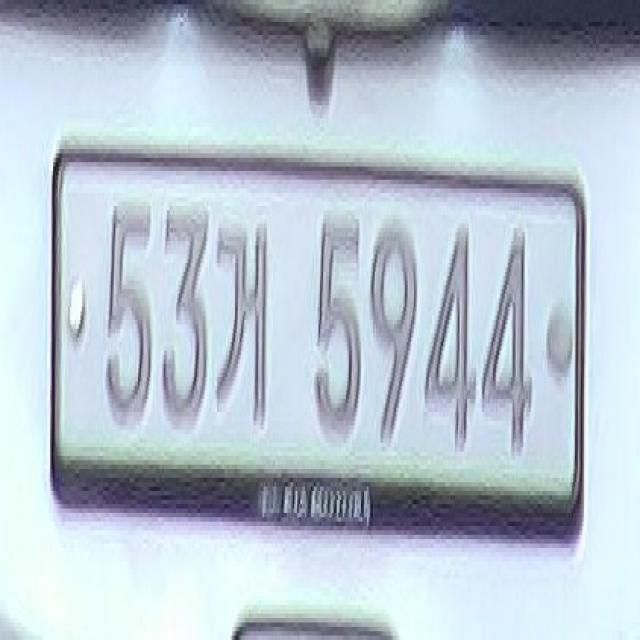3: (153, 180, 211, 438)
4: (423, 211, 484, 447), (481, 206, 535, 465)
5: (106, 197, 159, 425), (315, 223, 367, 430)
9: (361, 210, 423, 452)
geo: (208, 206, 270, 430)
license_plate: (50, 127, 587, 552)
